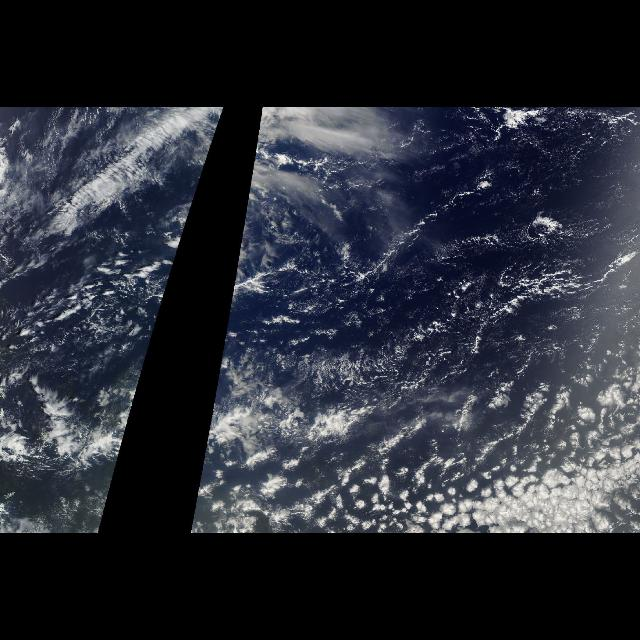Flower: (302, 382, 638, 532)
